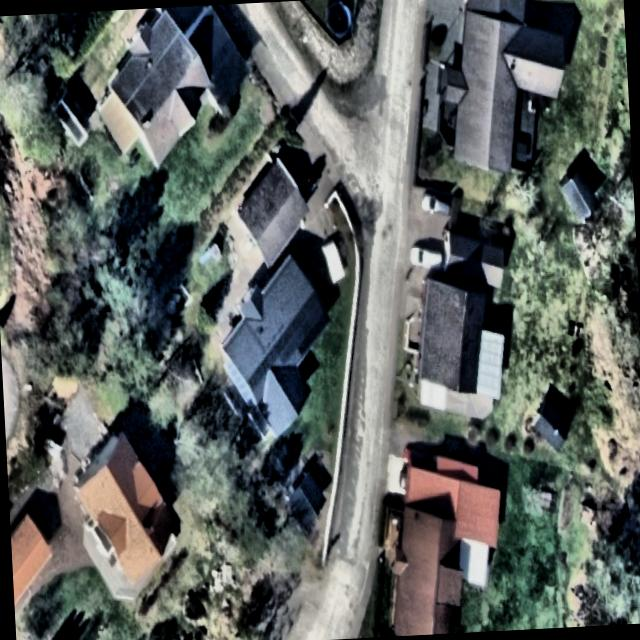roof_pv: (285, 288, 333, 354), (268, 324, 308, 366), (246, 349, 278, 386)
